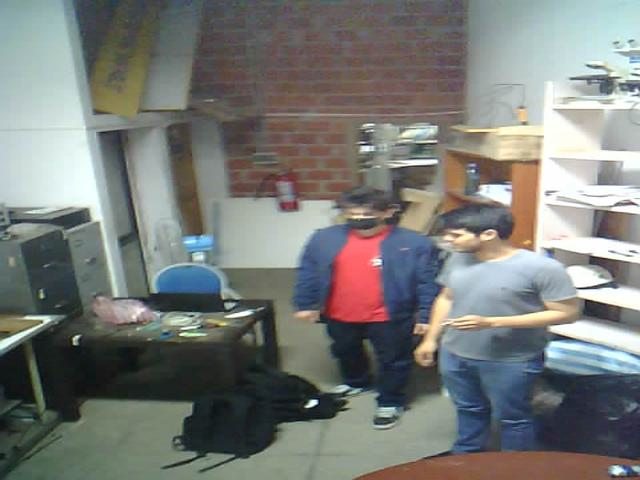person: (408, 189, 571, 479), (280, 164, 434, 441)
